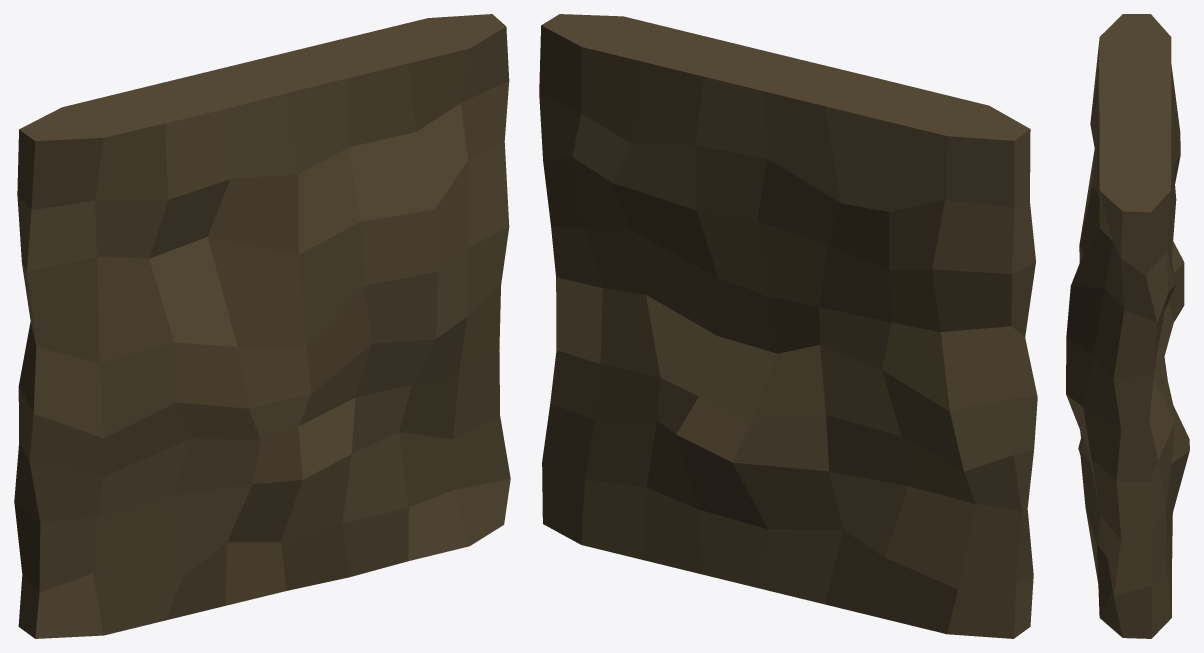
File: BigWall.1.fbx
3 views of the same model, side by side, from view 1: azimuth 30°, elevation 25°; view 2: azimuth 150°, elevation 25°; view 3: azimuth 270°, elevation 25° (orthographic). The views are drawn at different scales.
Visible parts, largest first — view 1: Big_Wall.1; view 2: Big_Wall.1; view 3: Big_Wall.1.
Boxes of the visible parts, x1,y1,x2,y2 form: Big_Wall.1: [14, 14, 510, 638]; Big_Wall.1: [539, 14, 1037, 638]; Big_Wall.1: [1066, 14, 1189, 638].
Bounding box in the file's own units: 1326 × 1300 × 341.
